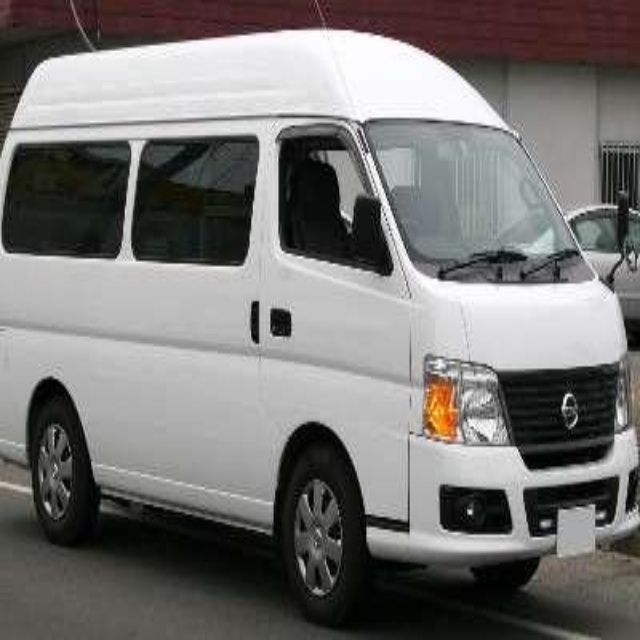Van: (2, 30, 640, 622)
